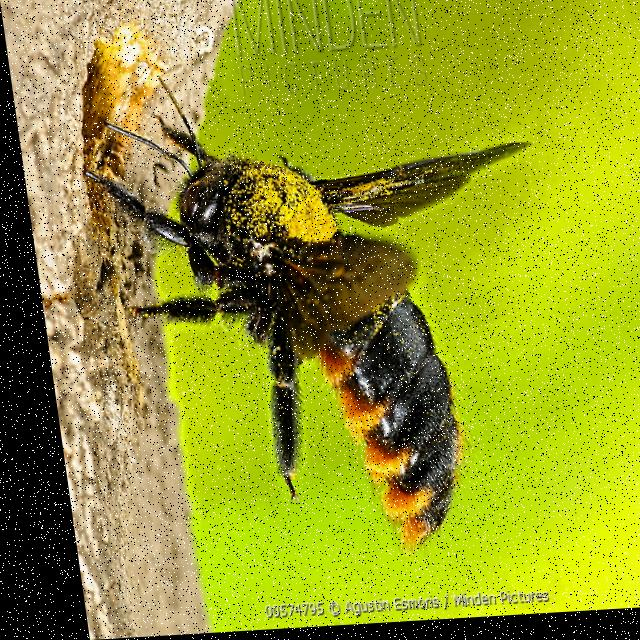Xylocopa: (70, 30, 577, 574)
